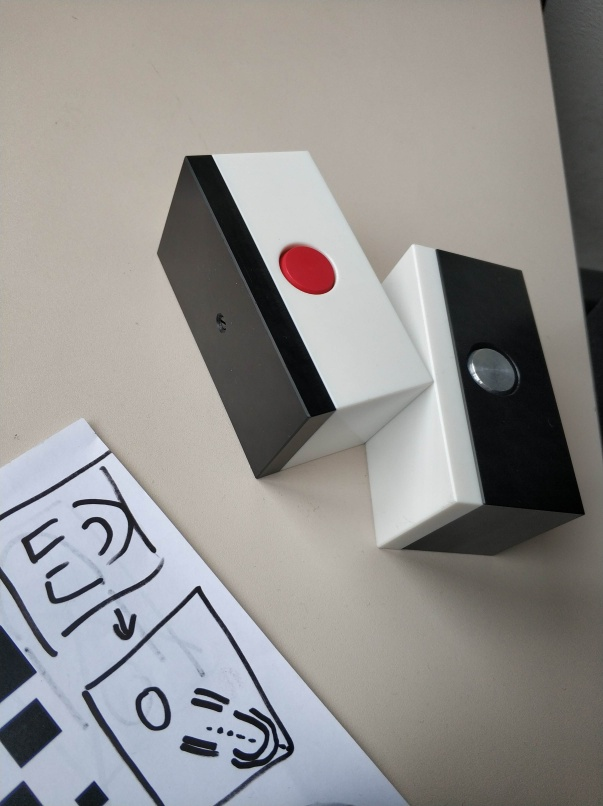black+white+red: (150, 148, 432, 483)
white+black+silver: (355, 238, 587, 558)
